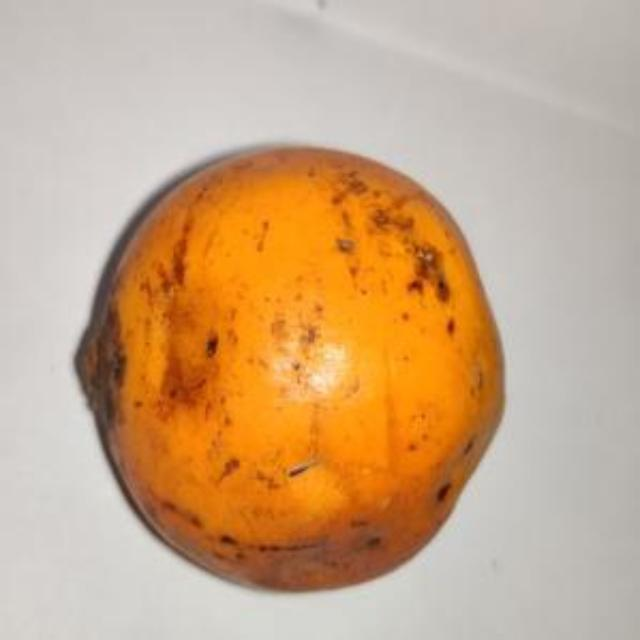good: (73, 146, 505, 593)
